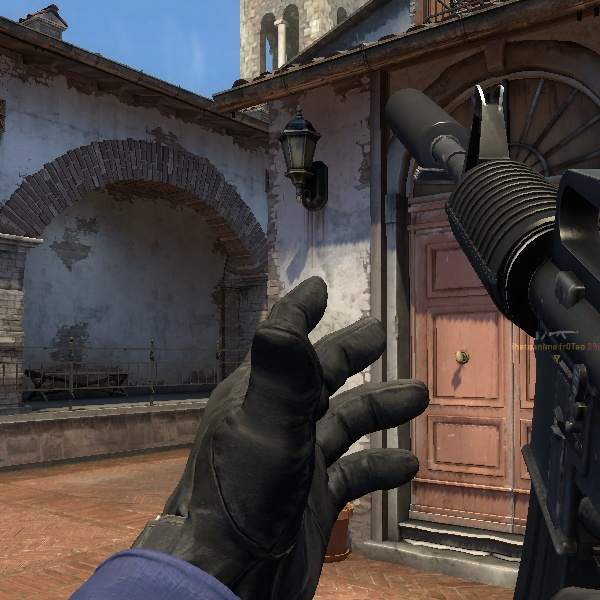ct_head: (329, 1, 600, 198)
t_head: (332, 0, 600, 193)
